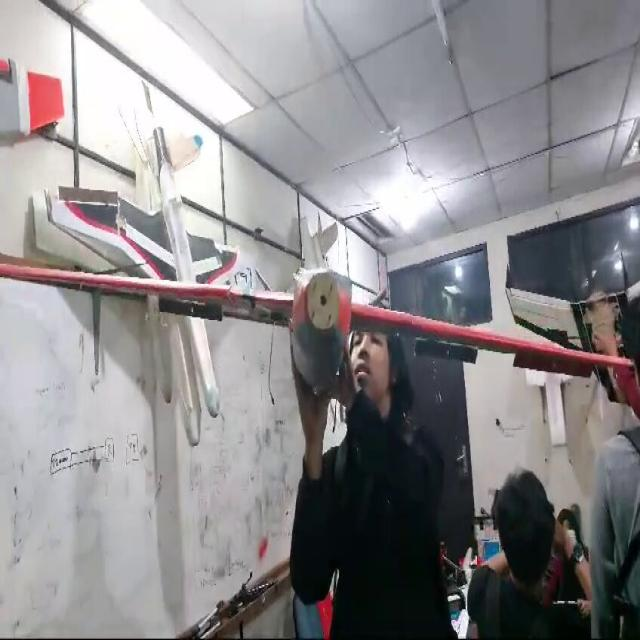plane: (0, 79, 637, 445)
